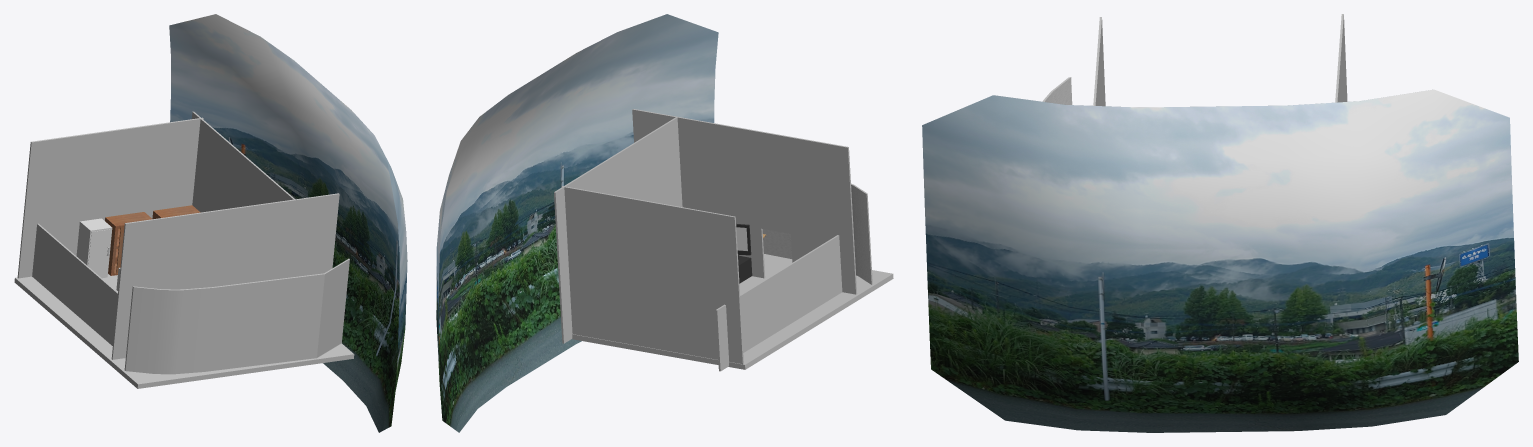
Rendered from stage_ver.Ka.fbx.
3 renders of one model, left to right at view 1: azimuth 30°, elevation 25°; view 2: azimuth 150°, elevation 25°; view 3: azimuth 270°, elevation 25°, orthographic. The views are drawn at different scales.
Visible parts, largest first — view 1: polySurface273; view 2: polySurface273; view 3: polySurface273.
Part boxes in pixels (x1,y1,x2,y2): polySurface273: (14,14,407,432); polySurface273: (436,14,893,432); polySurface273: (922,14,1518,432).
Size of the model in its own units: 12.81 by 11.67 by 18.54.
